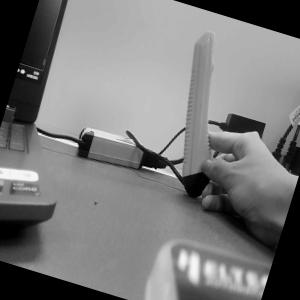estilete: (151, 28, 252, 201)
